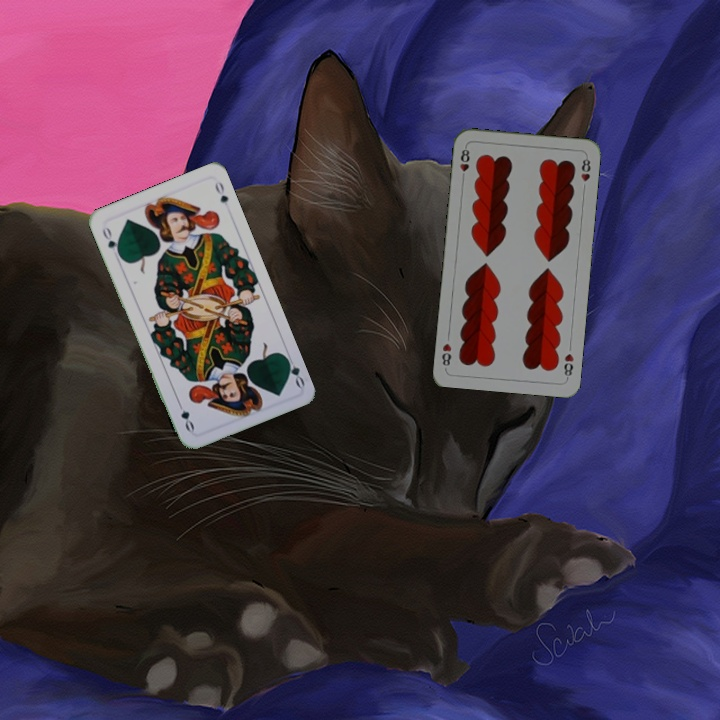GO: (280, 350, 307, 390), (98, 222, 123, 259)
H8: (456, 142, 472, 183), (560, 349, 576, 382)
